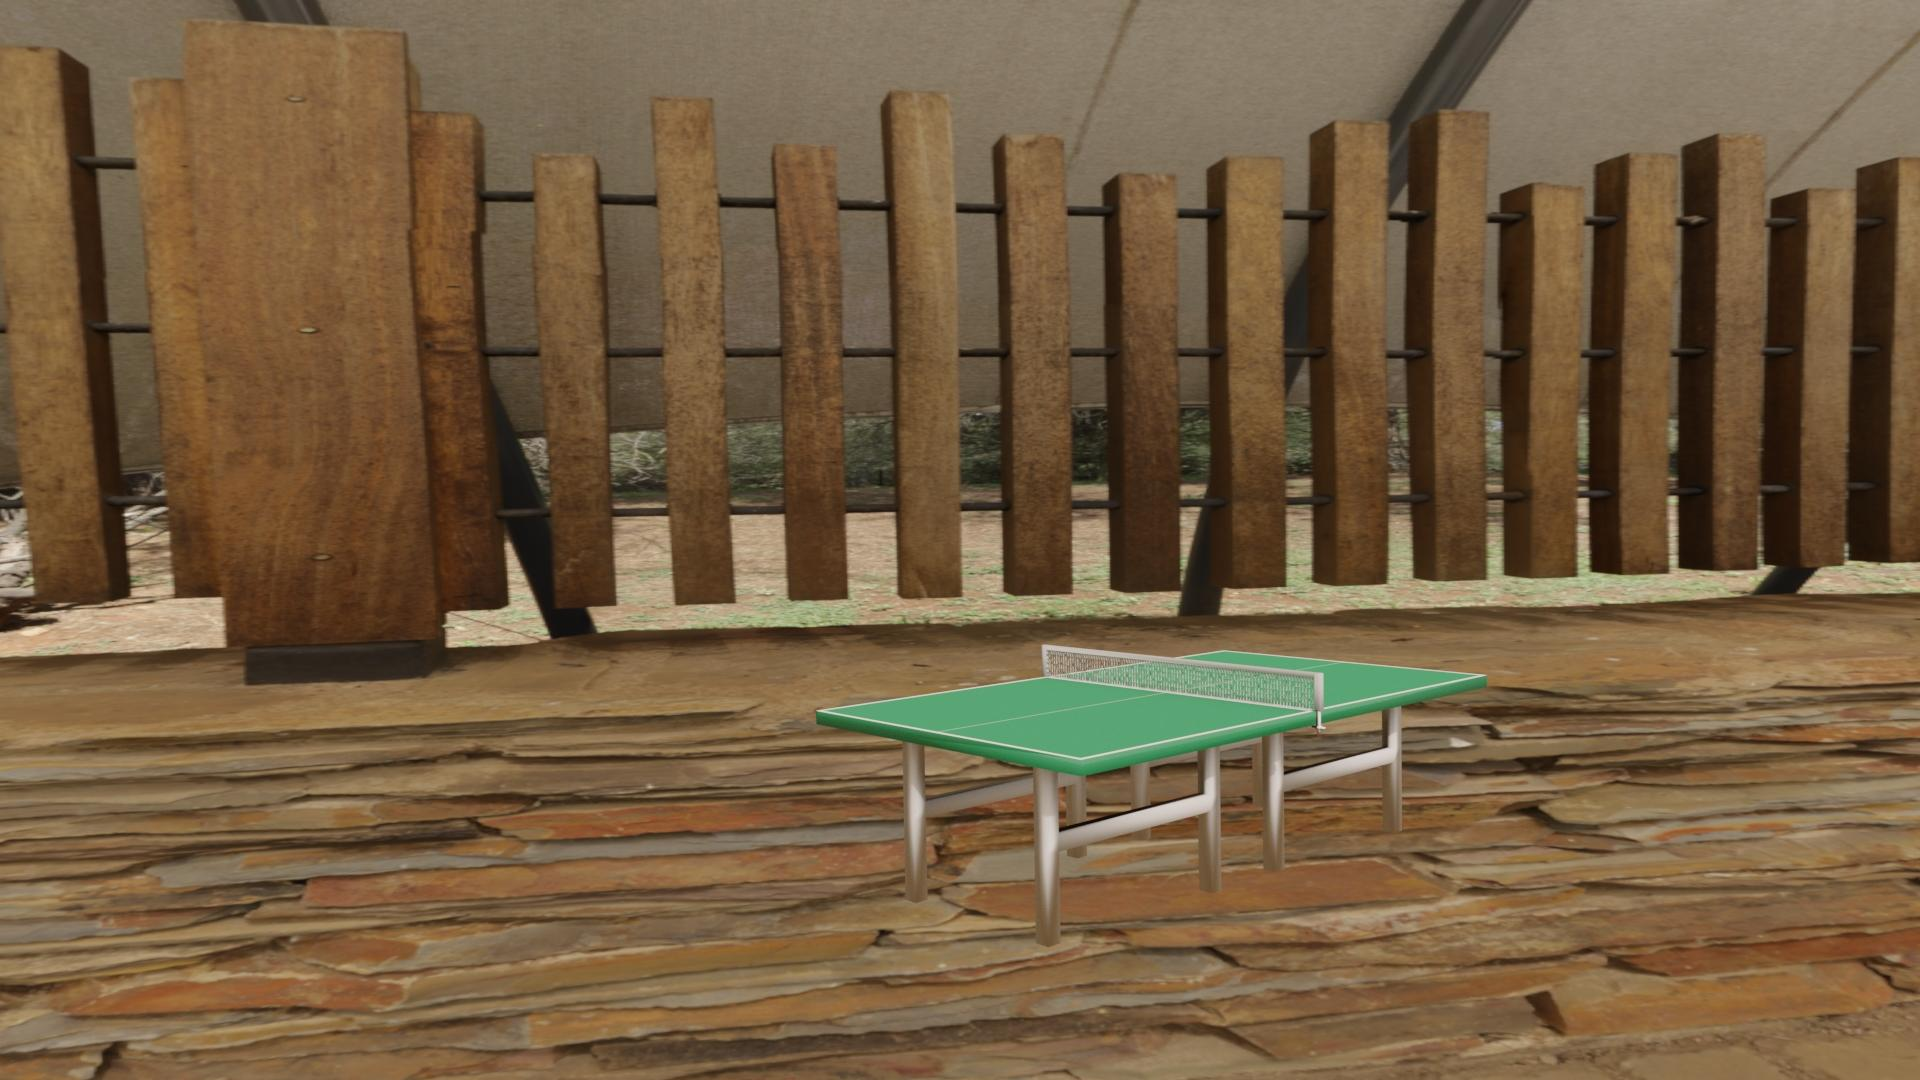table: (823, 651, 1481, 758)
